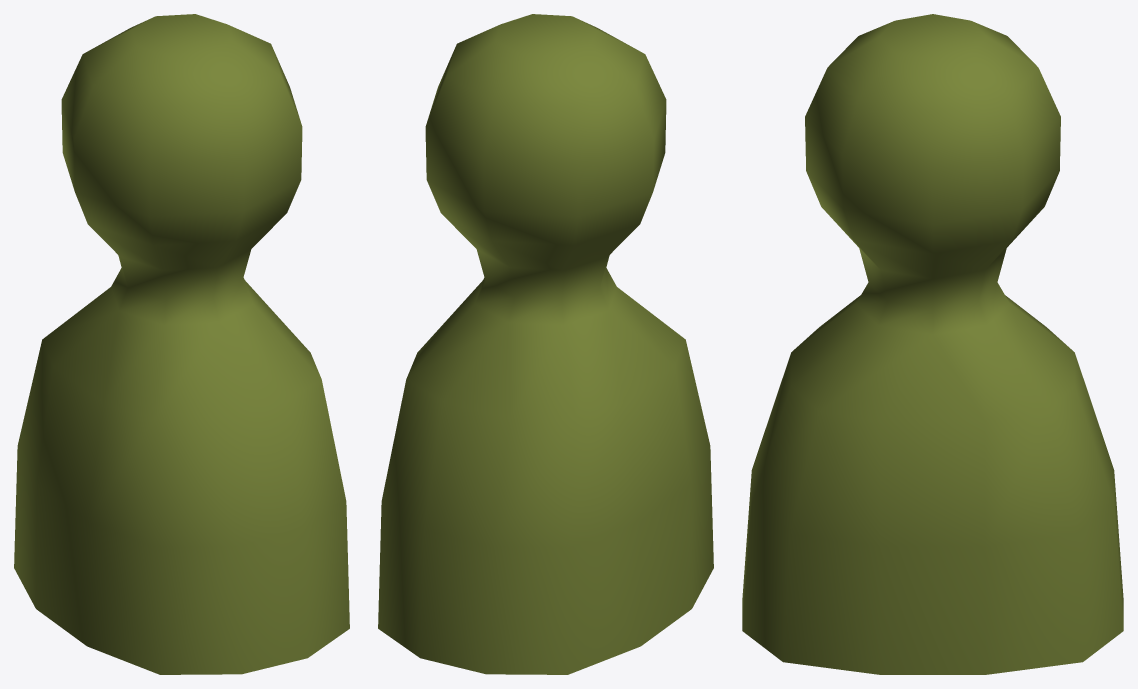
File: Pawn_Green.fbx
3 renders of one model, left to right at view 1: azimuth 30°, elevation 25°; view 2: azimuth 150°, elevation 25°; view 3: azimuth 270°, elevation 25°, orthographic. The views are drawn at different scales.
Visible parts, largest first — view 1: Pawn_Green; view 2: Pawn_Green; view 3: Pawn_Green.
Boxes of the visible parts, x1=… form: Pawn_Green: x1=14, y1=14, x2=349, y2=674; Pawn_Green: x1=378, y1=14, x2=713, y2=674; Pawn_Green: x1=742, y1=14, x2=1123, y2=674.
Bounding box in the file's own units: 63.06 × 141 × 84.16.
